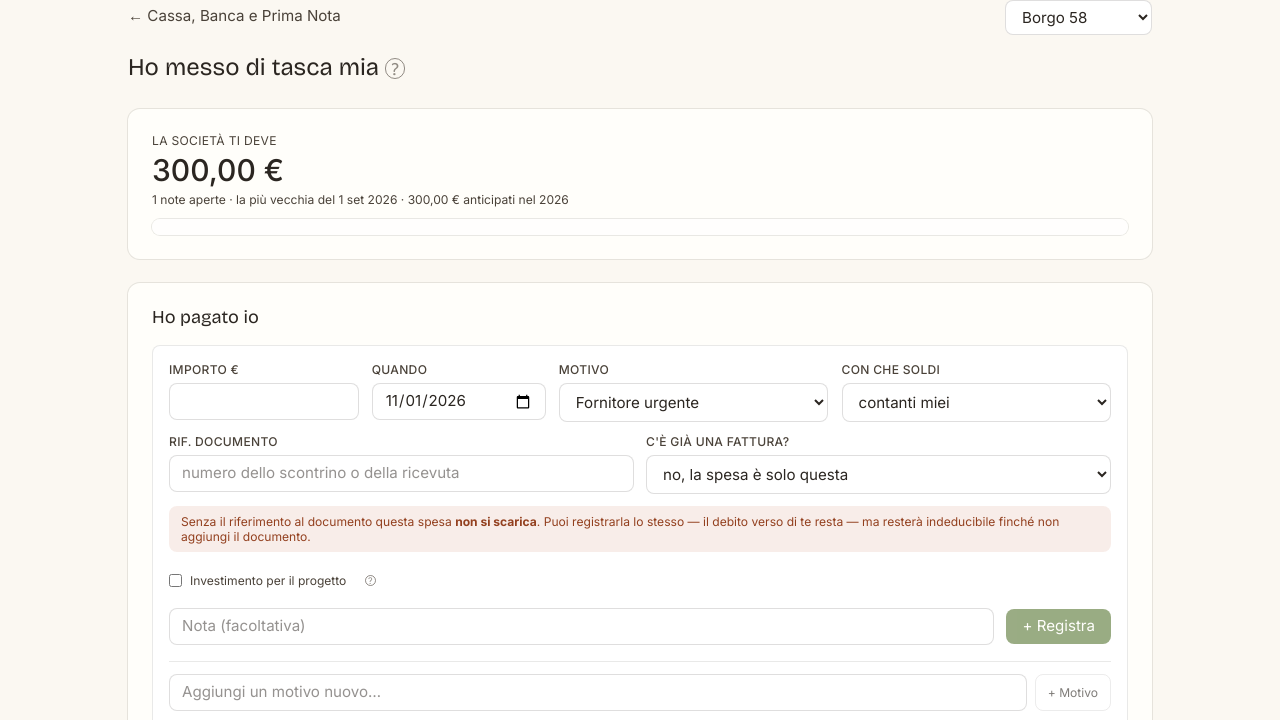
🔴 l'aiuto dell'etichetta dice la società giusta › 🔴 sull'orto nomina l'ORTO, e dice che resta FUORI dal totale
Select "Orto Borgo 58" in the dropdown in the row of "← Cassa, Banca e Prima Nota" at coordinates (1078, 18), box [1005, 0, 1152, 35]
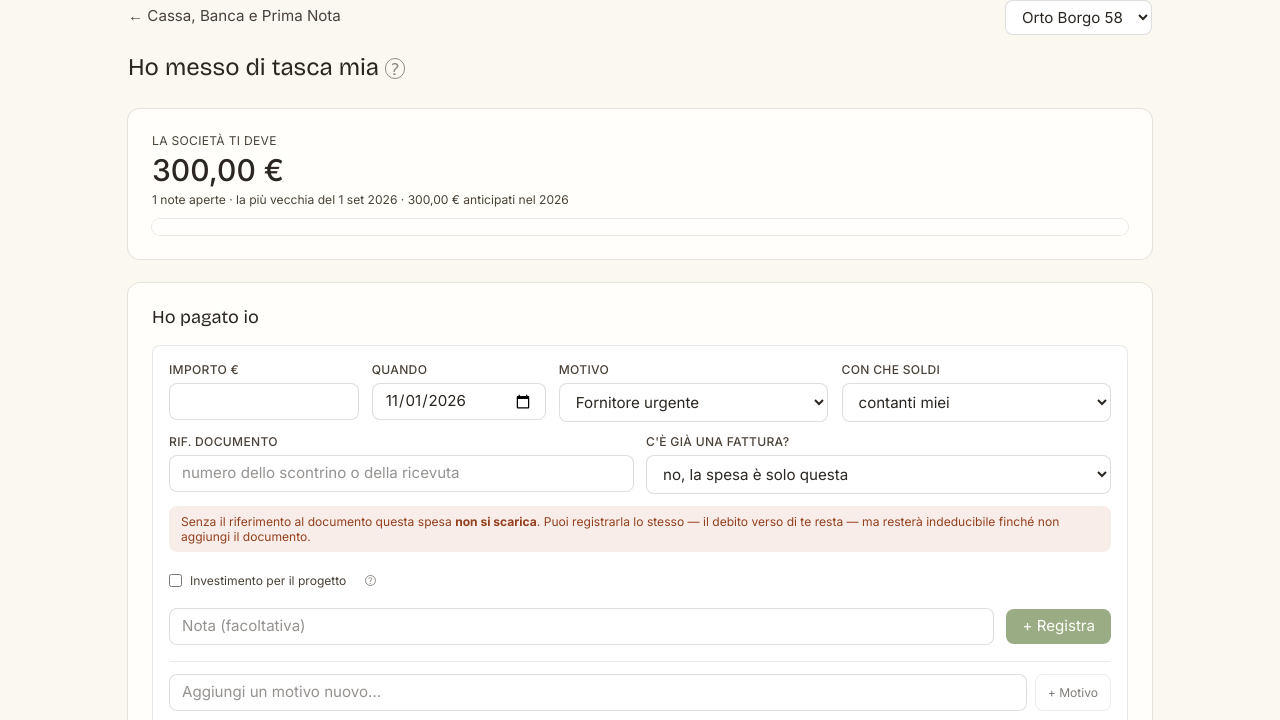
Click the button named "Cosa vuol dire «investimento per il progetto»".
click(370, 580)  # box [354, 564, 386, 596]
(page scrolled)
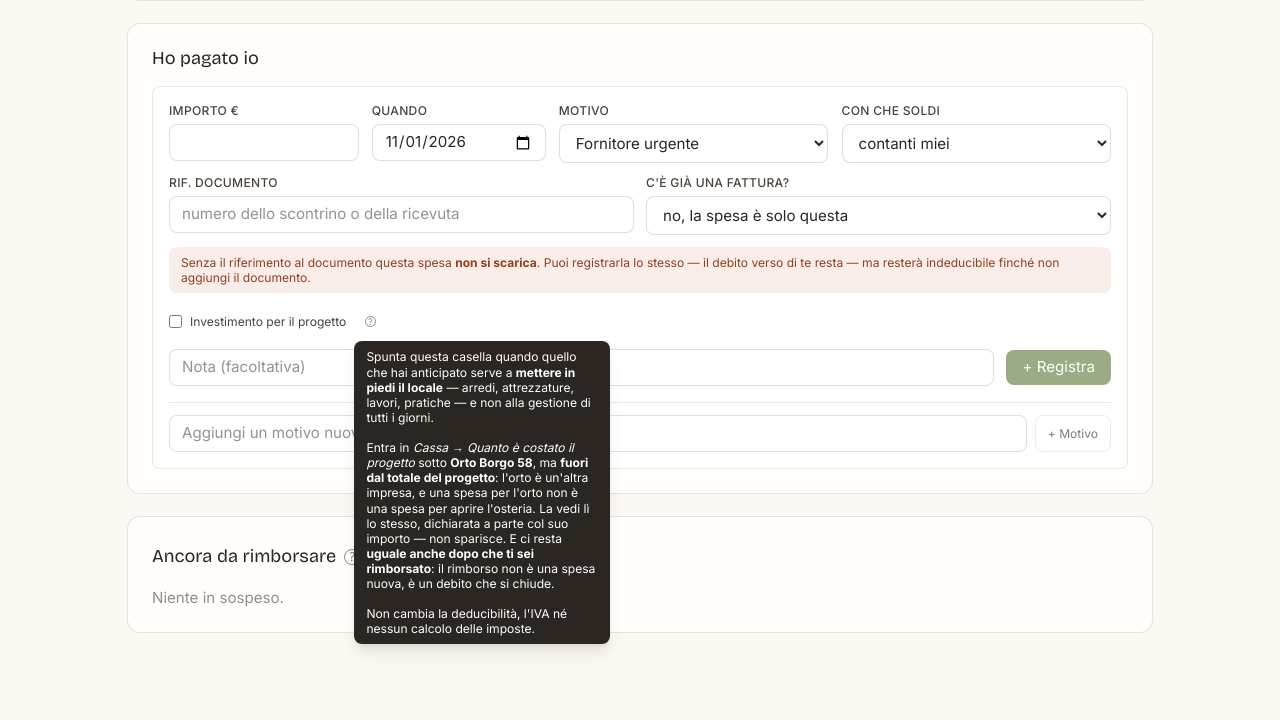
expect the tooltip shows "sotto Orto Borgo 58": met, box [354, 341, 610, 644]
expect the tooltip shows "fuori dal totale del progetto": met, box [366, 455, 588, 485]
